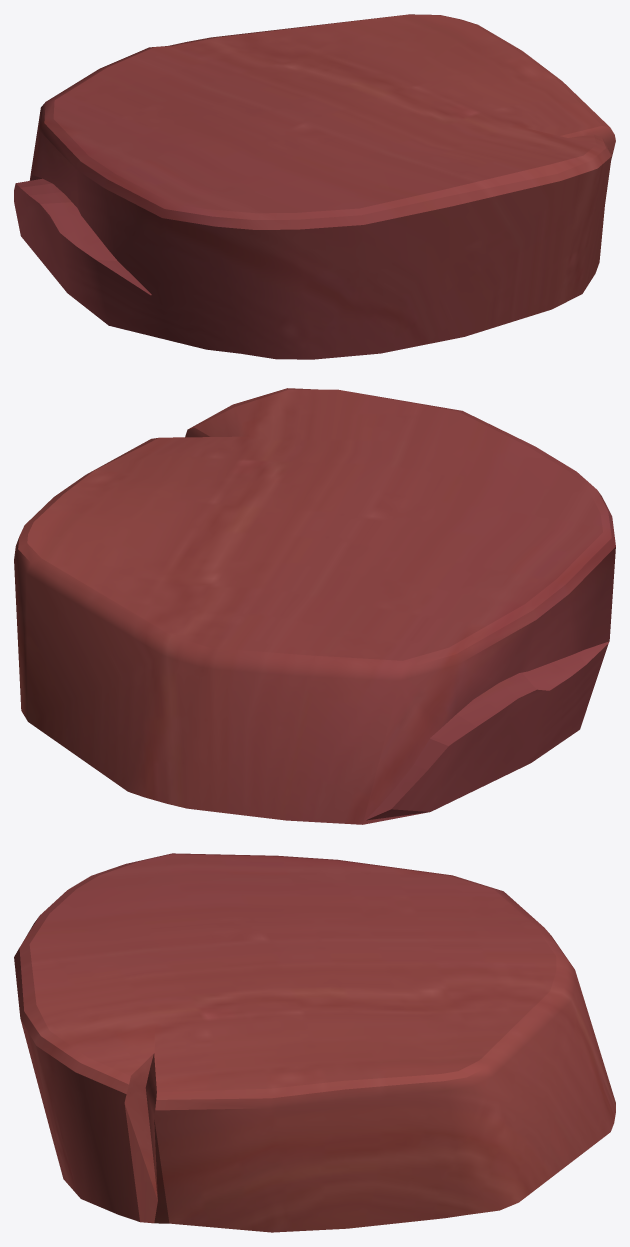
The model's file is SM_LStone_04.fbx.
The picture shows the model from 3 angles, top to bottom: view 1: azimuth 30°, elevation 25°; view 2: azimuth 150°, elevation 25°; view 3: azimuth 270°, elevation 25°; orthographic projection. The views are drawn at different scales.
Parts seen in each view (by area): view 1: SM_LStone_04; view 2: SM_LStone_04; view 3: SM_LStone_04.
Boxes of the visible parts, x1=… form: SM_LStone_04: x1=14, y1=14, x2=615, y2=359; SM_LStone_04: x1=14, y1=388, x2=615, y2=824; SM_LStone_04: x1=14, y1=853, x2=615, y2=1232.
Bounding box in the file's own units: 1516 × 497 × 1586.
